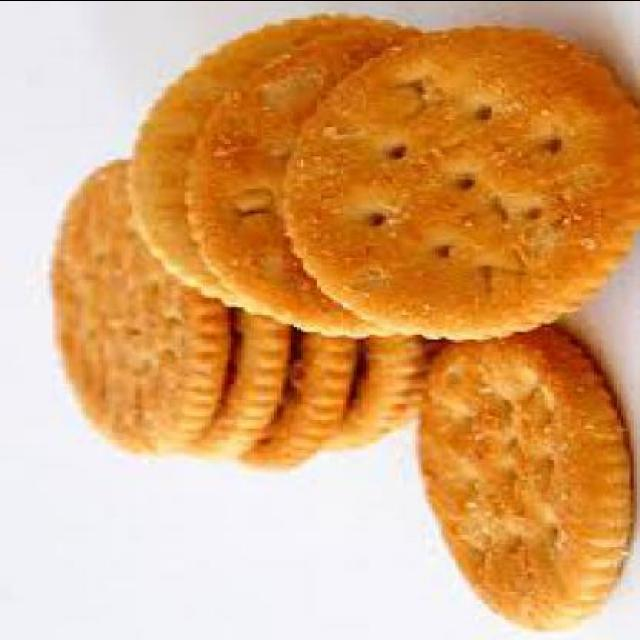Ritz cracker packaged: (32, 27, 634, 605)
